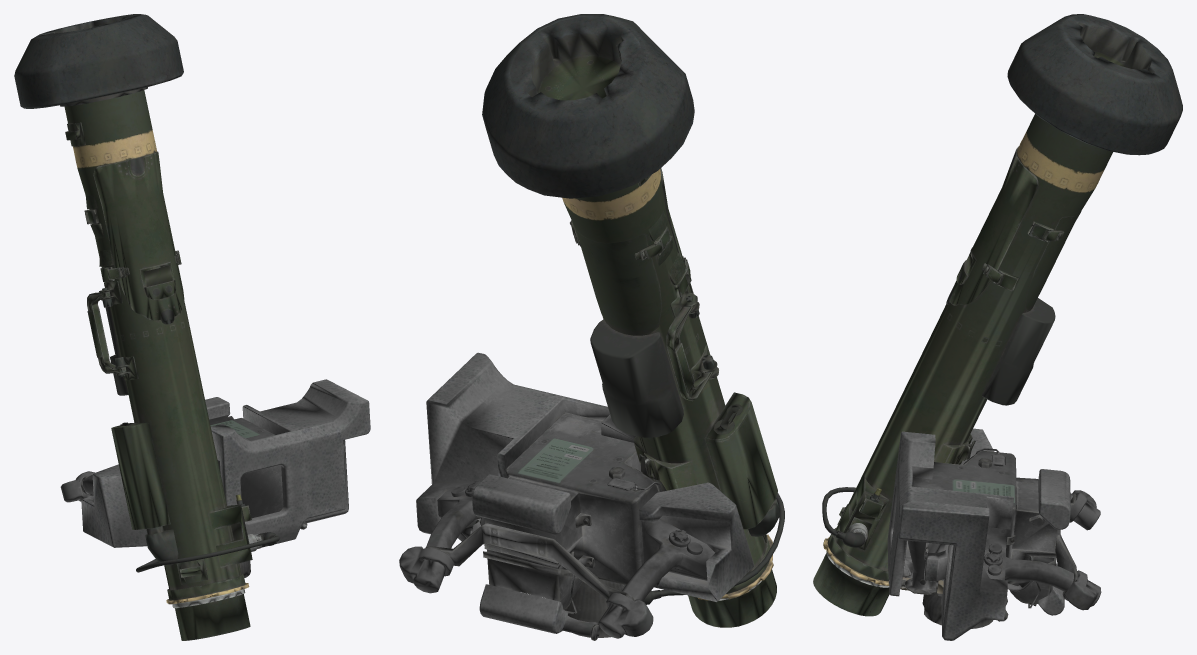
The model's file is Javil.obj.
3 renders of one model, left to right at view 1: azimuth 30°, elevation 25°; view 2: azimuth 150°, elevation 25°; view 3: azimuth 270°, elevation 25°, orthographic. The views are drawn at different scales.
Visible parts, largest first — view 1: Object_2, Object_1, Object_0, Object_2.002, Object_2.001; view 2: Object_1, Object_2, Object_0, Object_2.001, Object_2.002; view 3: Object_2, Object_1, Object_0, Object_2.001, Object_2.002.
Boxes of the visible parts, x1,y1,x2,y2 form: Object_2: (60, 87, 252, 640); Object_1: (60, 379, 370, 577); Object_0: (14, 14, 183, 108); Object_2.002: (136, 526, 279, 572); Object_2.001: (105, 307, 128, 395); Object_1: (399, 352, 754, 640); Object_2: (562, 168, 777, 627); Object_0: (482, 14, 694, 198); Object_2.001: (590, 319, 683, 437); Object_2.002: (622, 493, 784, 604); Object_2: (813, 113, 1112, 616); Object_1: (887, 428, 1101, 640); Object_0: (1007, 14, 1182, 155); Object_2.001: (982, 298, 1055, 405); Object_2.002: (822, 487, 867, 547).
Bounding box in the file's own units: 197 × 409 × 235.
